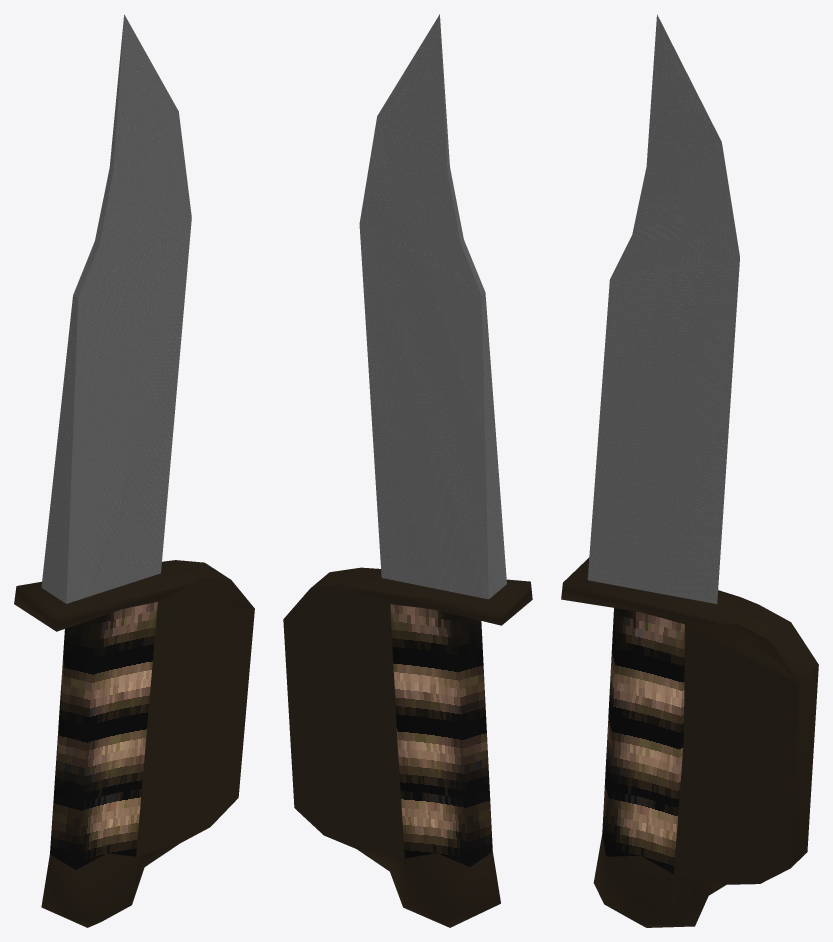
Rendered from p_knife2.glb.
3 views of the same model, side by side, from view 1: azimuth 30°, elevation 25°; view 2: azimuth 150°, elevation 25°; view 3: azimuth 330°, elevation 25° (orthographic). The views are drawn at different scales.
Parts seen in each view (by area): view 1: p_knife2; view 2: p_knife2; view 3: p_knife2.
Boxes of the visible parts, <box> form: p_knife2: <box>14,14,254,927</box>; p_knife2: <box>283,14,532,927</box>; p_knife2: <box>561,14,818,927</box>.
Size of the model in its own units: 3.93 by 15.51 by 1.3.
3 materials, 3 textured.
